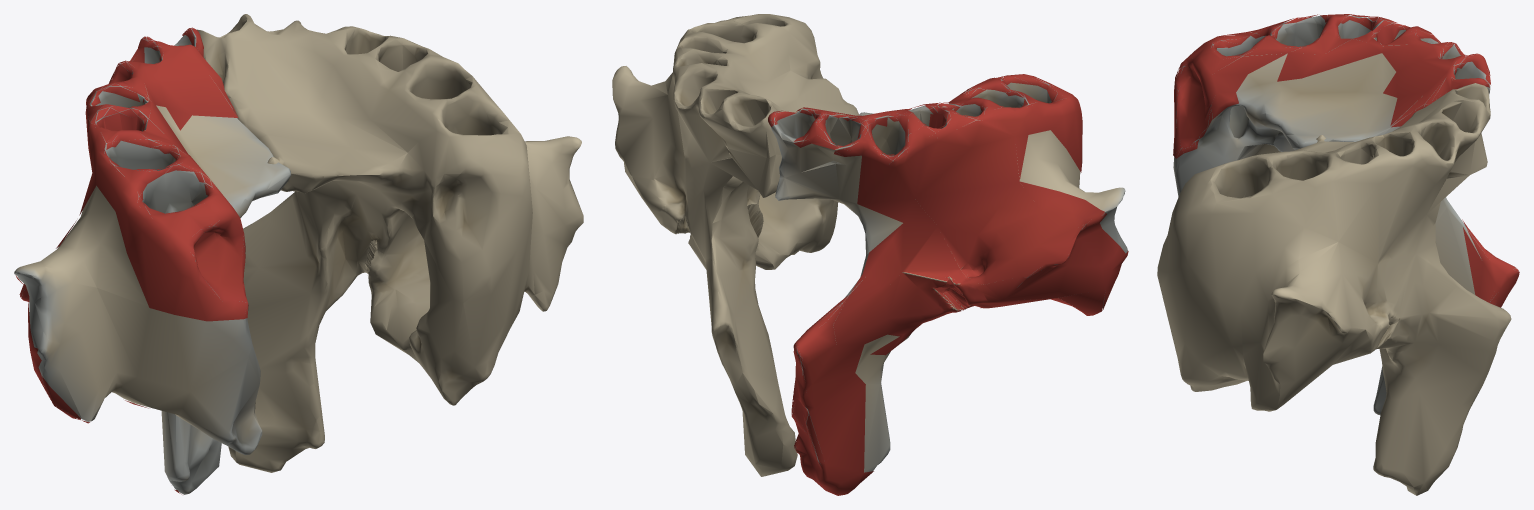
Rendered from maxilla.glb.
3 views of the same model, side by side, from view 1: azimuth 30°, elevation 25°; view 2: azimuth 150°, elevation 25°; view 3: azimuth 270°, elevation 25° (orthographic). The views are drawn at different scales.
Visible parts, largest first — view 1: FJ3269, FJ3375, origo__alveolaris-palatinus__m-buccinator, maxilla__alveolaris-palatinus, origo__corpus-fossa-canina-tuber__m-levator-anguli-oris; view 2: FJ3269, origo__corpus-fossa-canina-tuber__m-levator-anguli-oris, origo__alveolaris-palatinus__m-buccinator, FJ3375, origo__infraorbitalis-frontalis__m-levator-labii-superioris, maxilla__alveolaris-palatinus; view 3: FJ3269, FJ3375, origo__alveolaris-palatinus__m-buccinator, origo__infraorbitalis-frontalis__m-levator-labii-superioris, maxilla__alveolaris-palatinus.
Boxes of the visible parts, x1=… form: FJ3269: x1=196, y1=14, x2=583, y2=472; FJ3375: x1=14, y1=35, x2=290, y2=494; origo__alveolaris-palatinus__m-buccinator: x1=79, y1=27, x2=248, y2=321; maxilla__alveolaris-palatinus: x1=81, y1=29, x2=245, y2=302; origo__corpus-fossa-canina-tuber__m-levator-anguli-oris: x1=15, y1=220, x2=148, y2=423; FJ3269: x1=612, y1=14, x2=859, y2=476; origo__corpus-fossa-canina-tuber__m-levator-anguli-oris: x1=833, y1=181, x2=1128, y2=355; origo__alveolaris-palatinus__m-buccinator: x1=768, y1=74, x2=1082, y2=226; FJ3375: x1=771, y1=83, x2=1127, y2=471; origo__infraorbitalis-frontalis__m-levator-labii-superioris: x1=791, y1=295, x2=873, y2=495; maxilla__alveolaris-palatinus: x1=770, y1=77, x2=1079, y2=199; FJ3269: x1=1157, y1=83, x2=1511, y2=495; FJ3375: x1=1173, y1=16, x2=1490, y2=414; origo__alveolaris-palatinus__m-buccinator: x1=1173, y1=14, x2=1490, y2=158; origo__infraorbitalis-frontalis__m-levator-labii-superioris: x1=1462, y1=219, x2=1519, y2=307; maxilla__alveolaris-palatinus: x1=1176, y1=15, x2=1490, y2=158.
Size of the model in its own units: 93.41 by 69.73 by 57.36.
